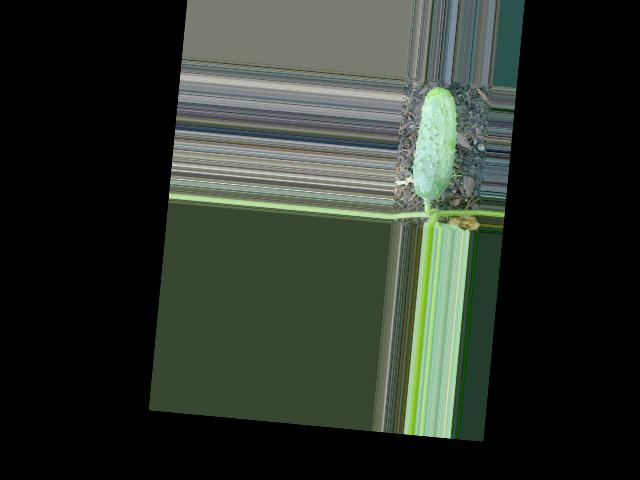cucumber: (410, 84, 461, 201)
